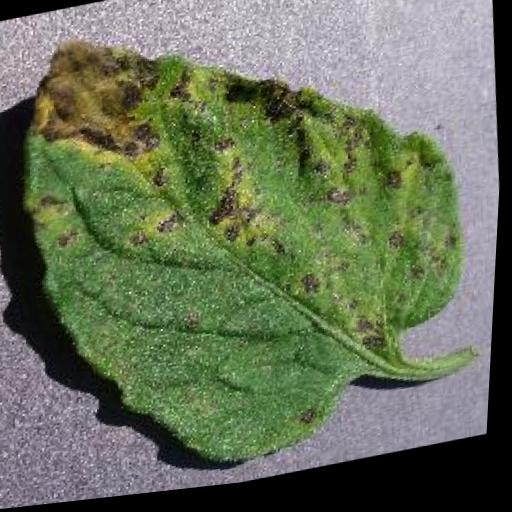Septoria: (1, 0, 491, 506)
